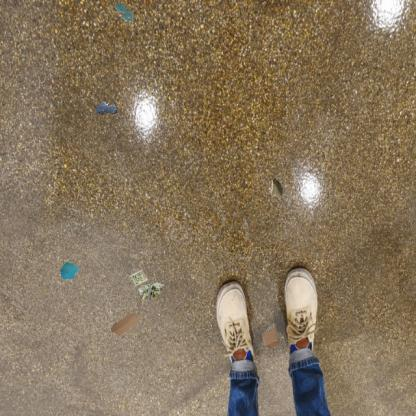dirty: (108, 311, 142, 339), (260, 322, 284, 351), (136, 281, 166, 303), (57, 260, 81, 281), (127, 267, 150, 288), (268, 176, 284, 199)
liquid: (94, 100, 118, 116), (114, 2, 132, 23)
